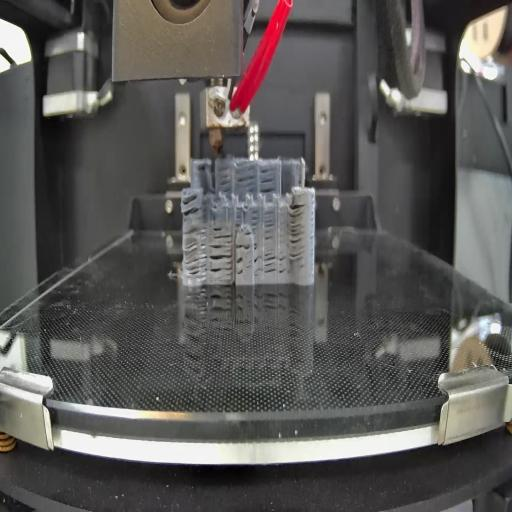cracks: (184, 227, 207, 278), (289, 200, 306, 263), (210, 243, 232, 278), (265, 250, 288, 275), (182, 194, 204, 218), (235, 168, 257, 192), (259, 166, 277, 194), (264, 209, 276, 244), (218, 167, 233, 192), (212, 224, 234, 241), (254, 240, 263, 276), (234, 205, 244, 228), (252, 206, 260, 230), (236, 242, 254, 252), (237, 256, 245, 278), (242, 232, 254, 238)
